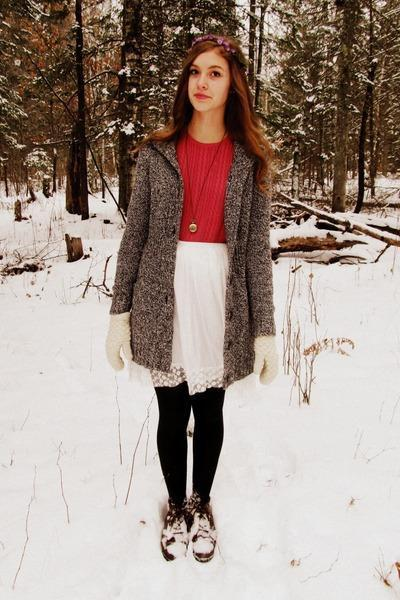jacket: (92, 138, 280, 391)
shirt: (176, 132, 233, 242)
shoe: (154, 490, 227, 565)
skirt: (150, 241, 231, 394)
